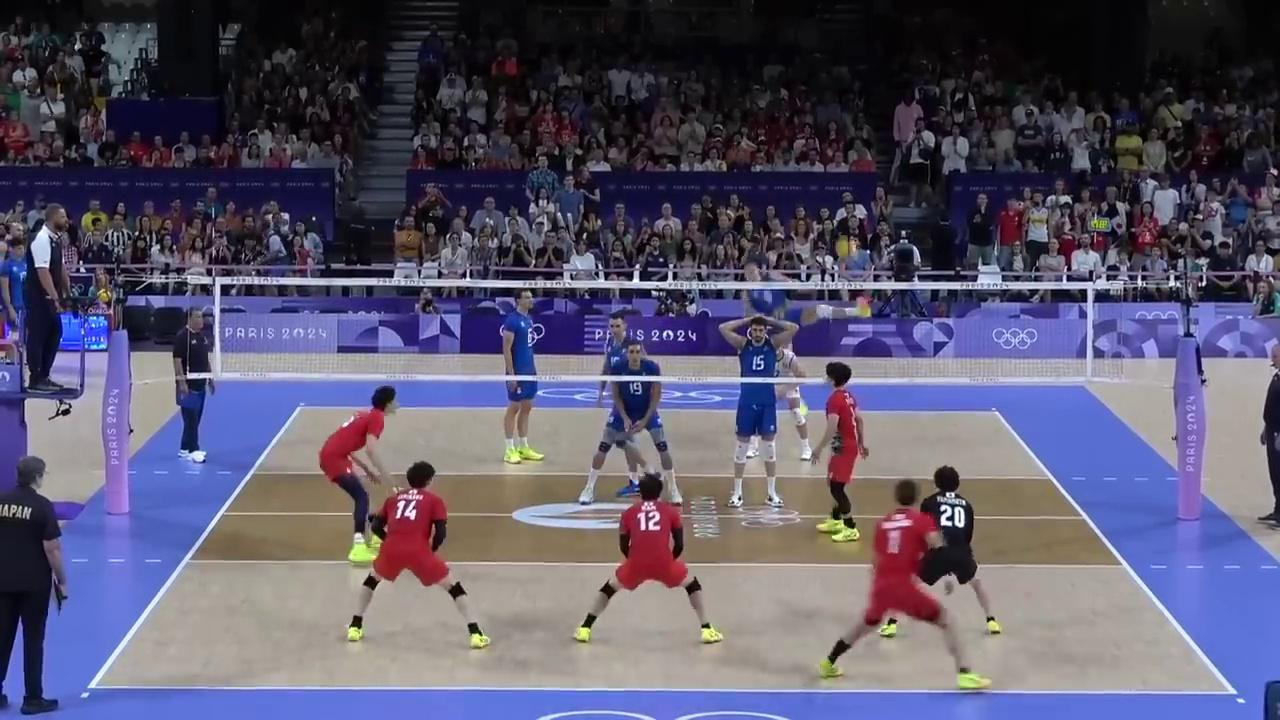ball: (835, 238, 857, 258)
